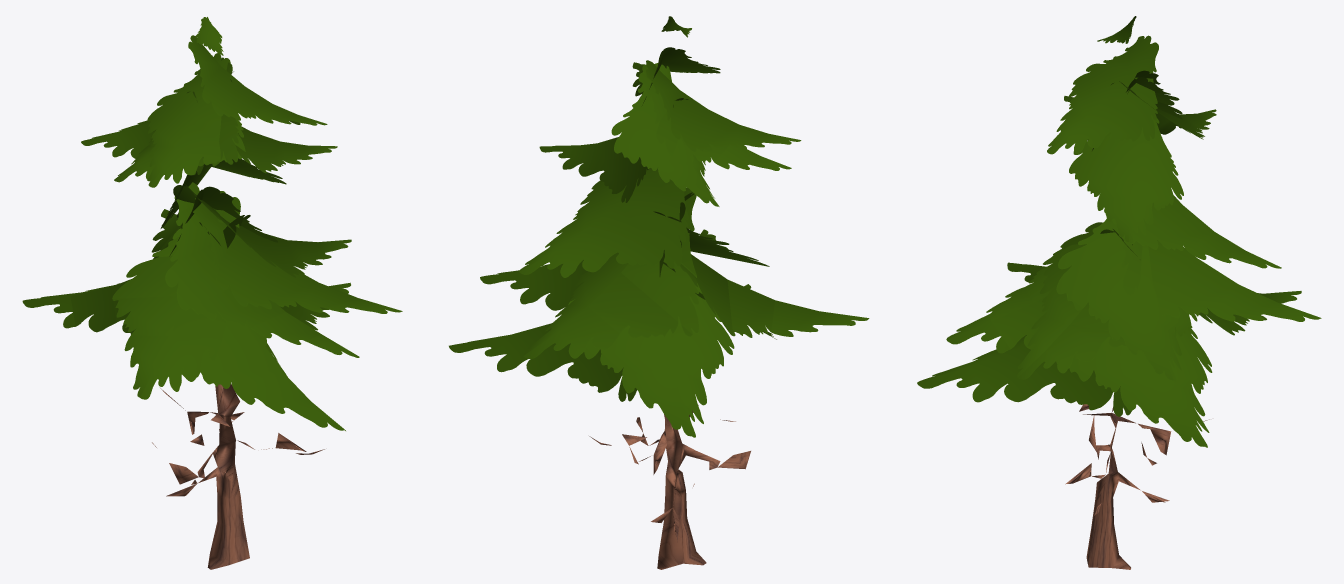
Rendered from Pine_4_L.gltf.
The picture shows the model from 3 angles, left to right: view 1: azimuth 30°, elevation 25°; view 2: azimuth 150°, elevation 25°; view 3: azimuth 270°, elevation 25°; orthographic projection. The views are drawn at different scales.
Visible parts, largest first — view 1: Pine_4_L; view 2: Pine_4_L; view 3: Pine_4_L.
Boxes of the visible parts, box(x1,y1,x2,y2) form: Pine_4_L: box(22, 17, 402, 569); Pine_4_L: box(449, 16, 869, 569); Pine_4_L: box(917, 16, 1321, 569).
Size of the model in its own units: 6.46 by 10.37 by 7.23.
2 materials, 2 textured.
